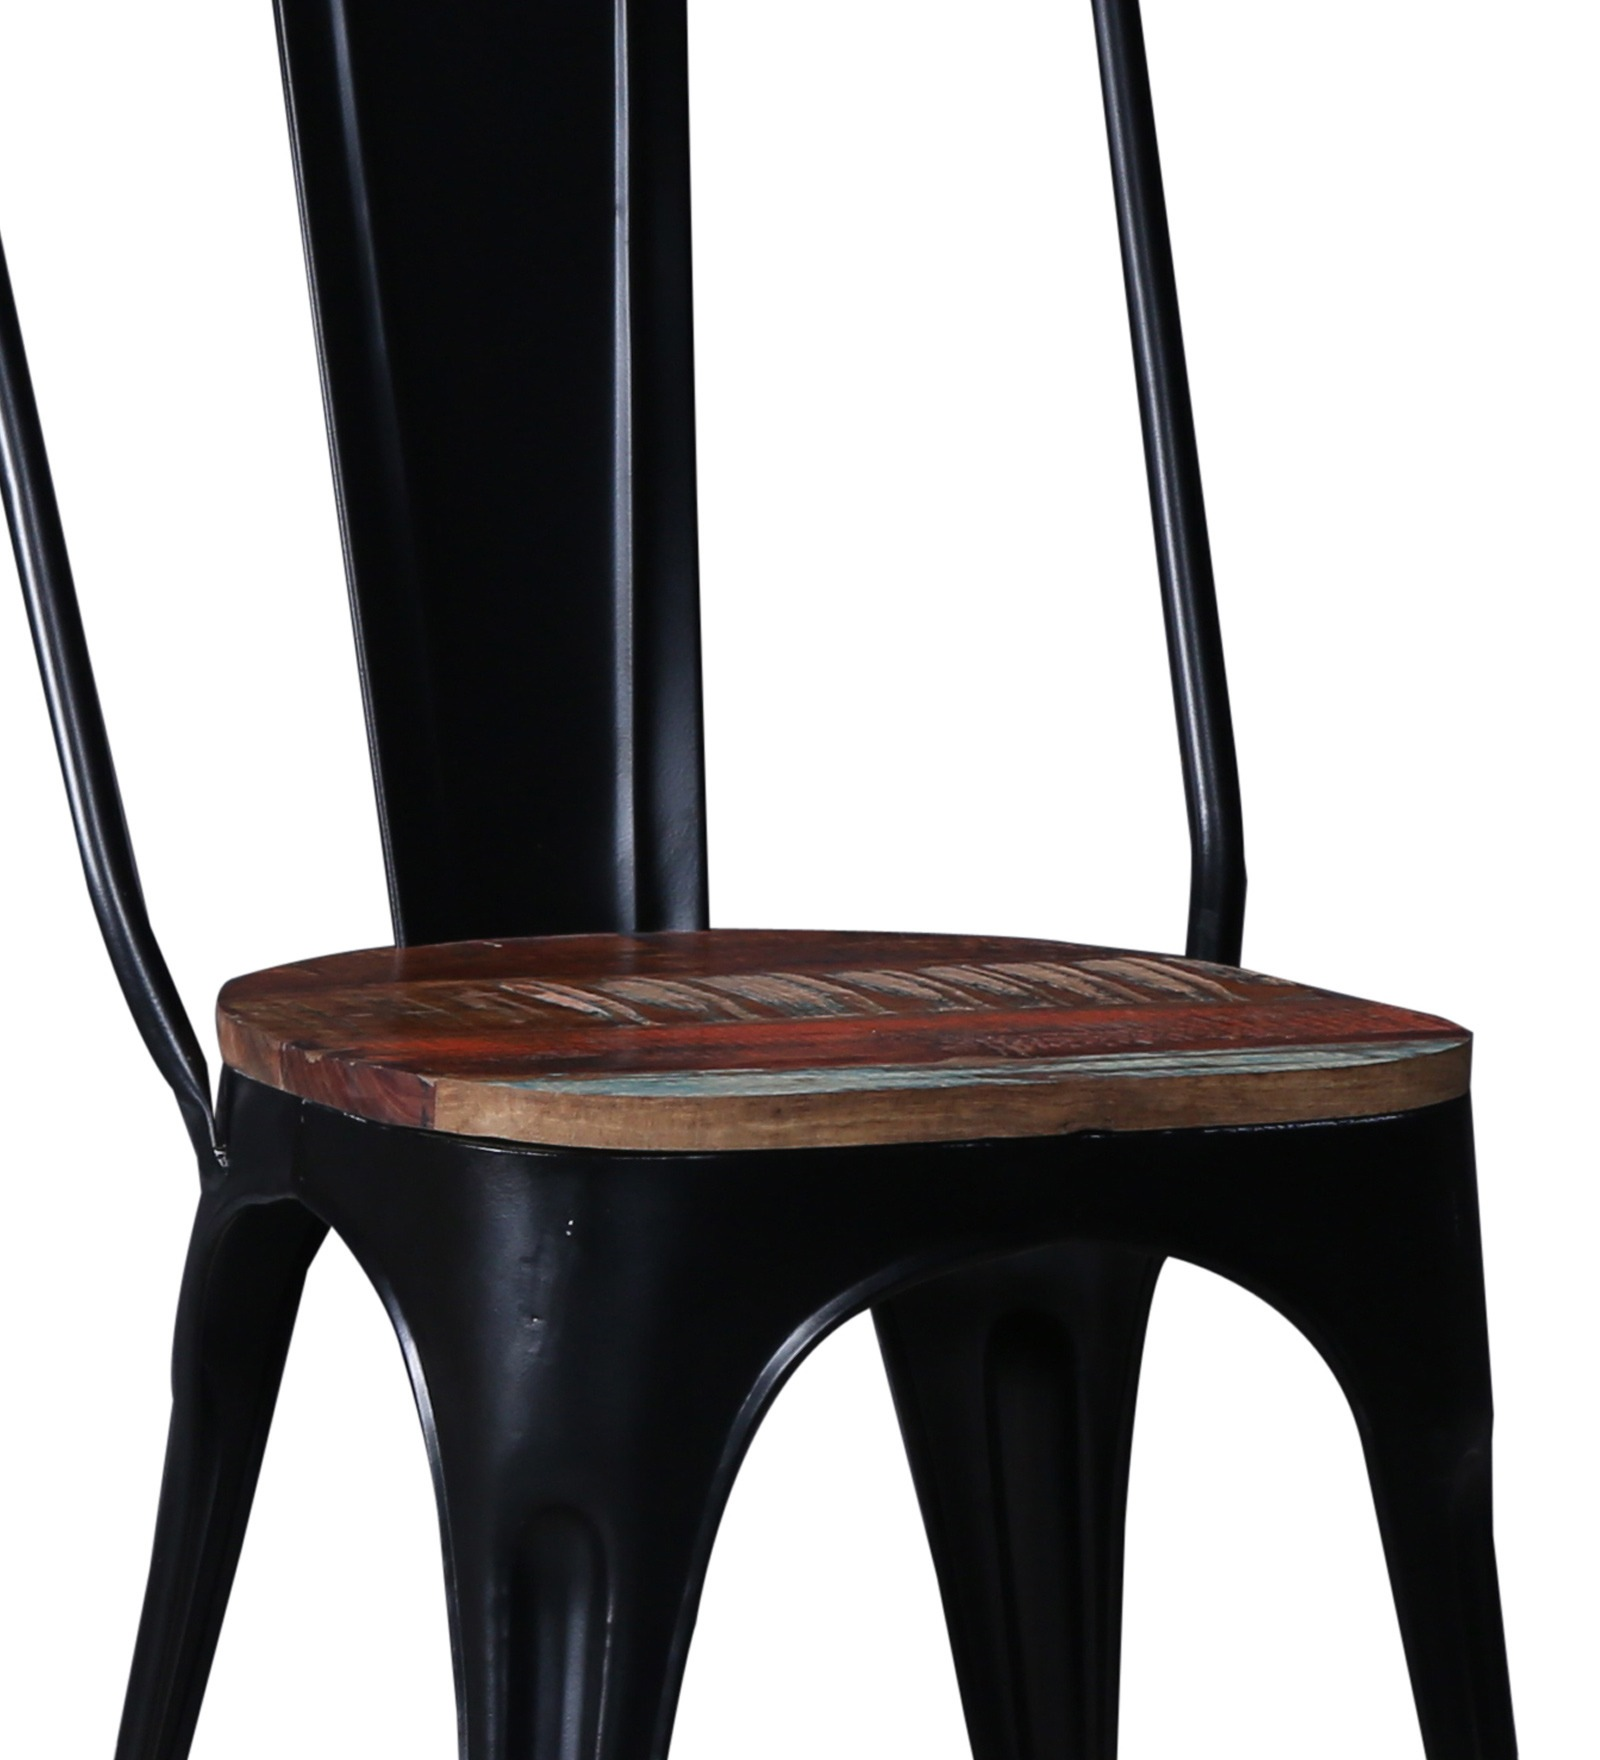Kumtor Metal Chair in Distress Black Color with Wooden Seat by Bohemiana: (6, 8, 1566, 1760)
